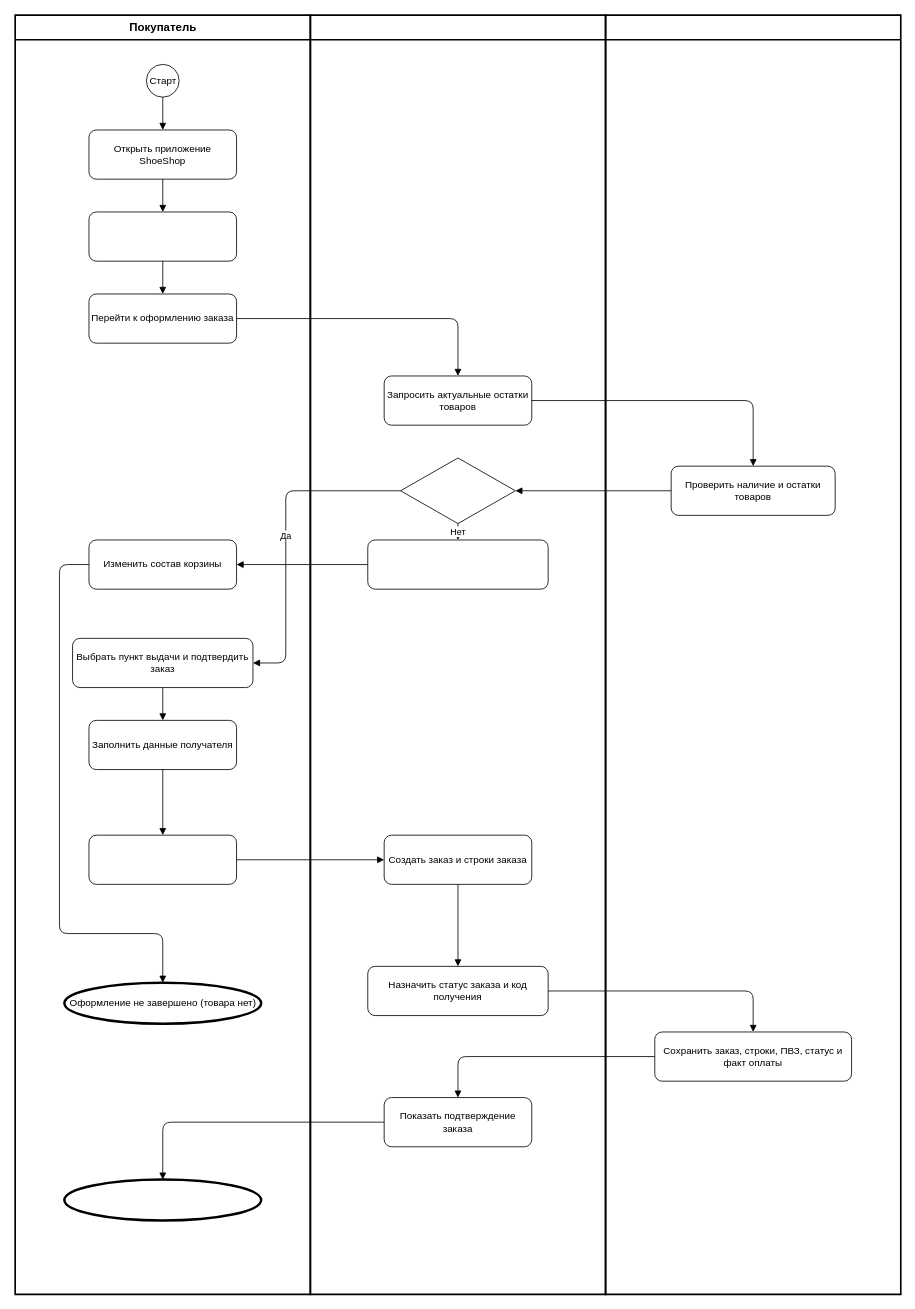
Some shapes in this 915 by 1309 pixel diagram are drawn without their labels. Here are the shapes that lost their labels. From the top down, the box of each, then its label:
(88, 211, 237, 261): Выбрать товары в каталоге
(400, 457, 515, 524): Все товары в наличии?
(367, 539, 548, 589): Показать сообщение об отсутствии товара
(309, 14, 606, 1295): Приложение ShoeShop
(604, 14, 901, 1295): База данных
(88, 834, 237, 884): Оплатить заказ
(63, 1178, 262, 1221): Оформление завершено успешно
